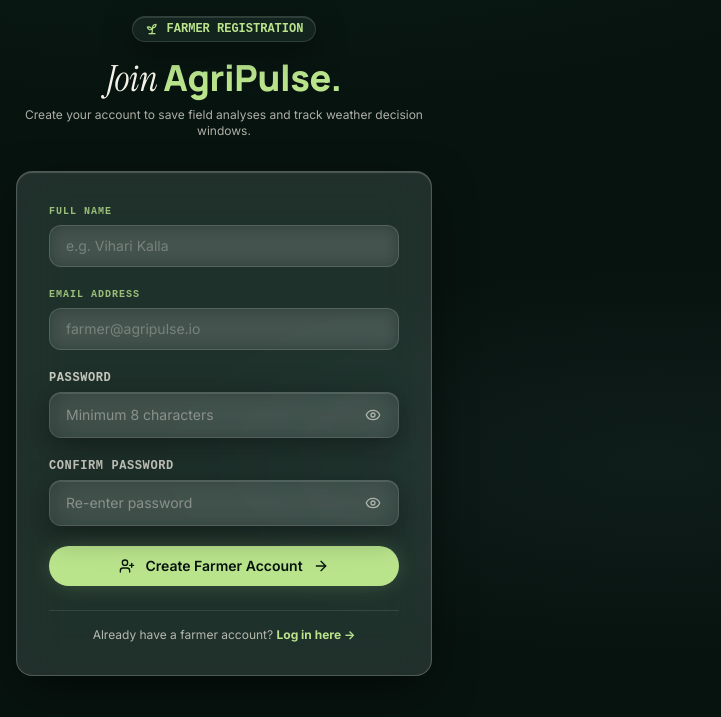
it: Stage 11J Frontend Auth & Password Component Tests › 3. SignupPage detects password mismatch
The image size is (721, 717).
Type "Vihari Kalla" into the field labelled "Full Name" at [224, 246], box [49,225,399,267]
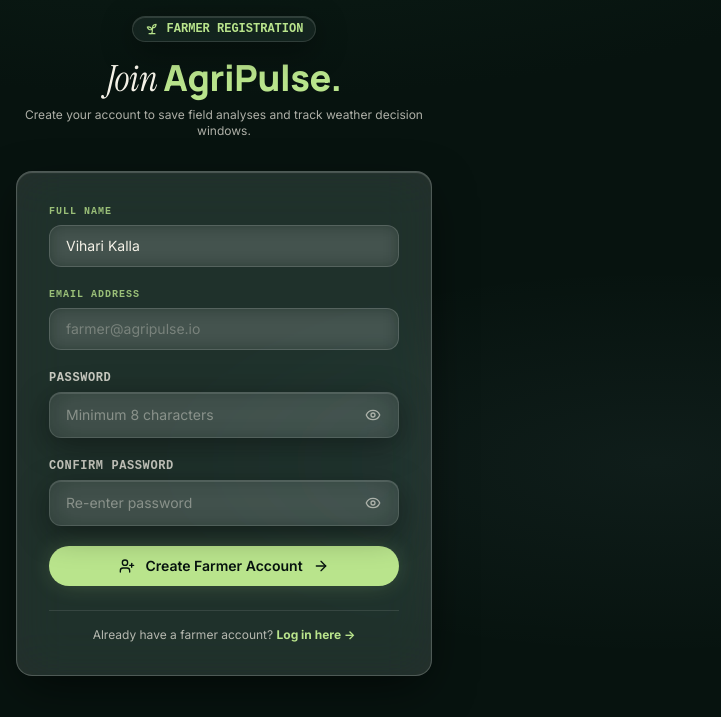
Type "vihari@agripulse.io" into the field labelled "Email Address" at [224, 329], box [49,308,399,350]
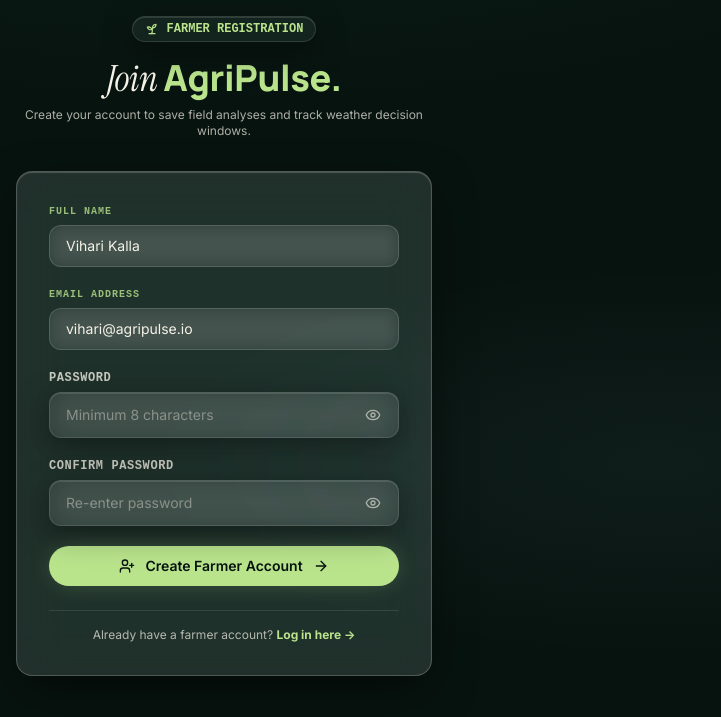
Type "Password123!" into the password field labelled "Password" at [224, 415], box [49,392,399,438]
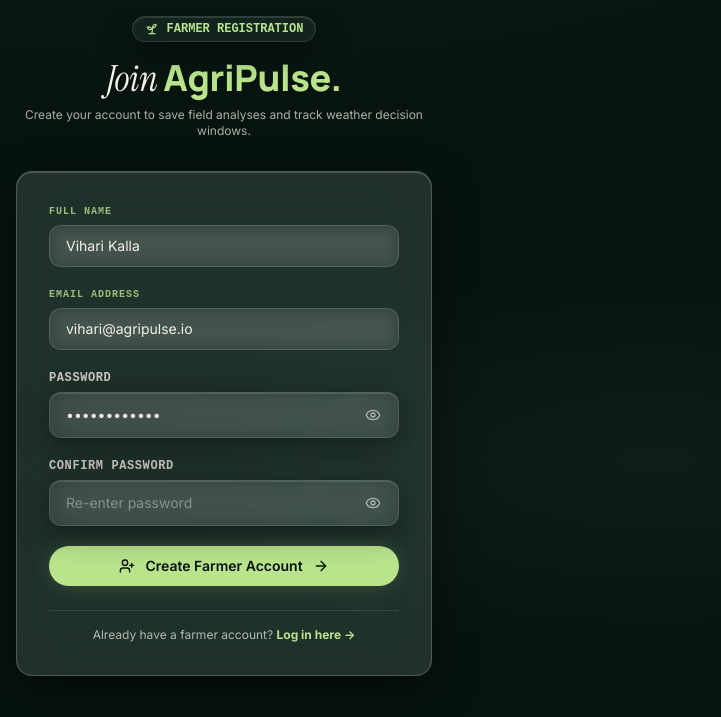
Type "WrongPassword123!" into the password field labelled "Confirm Password" at [224, 503], box [49,480,399,526]
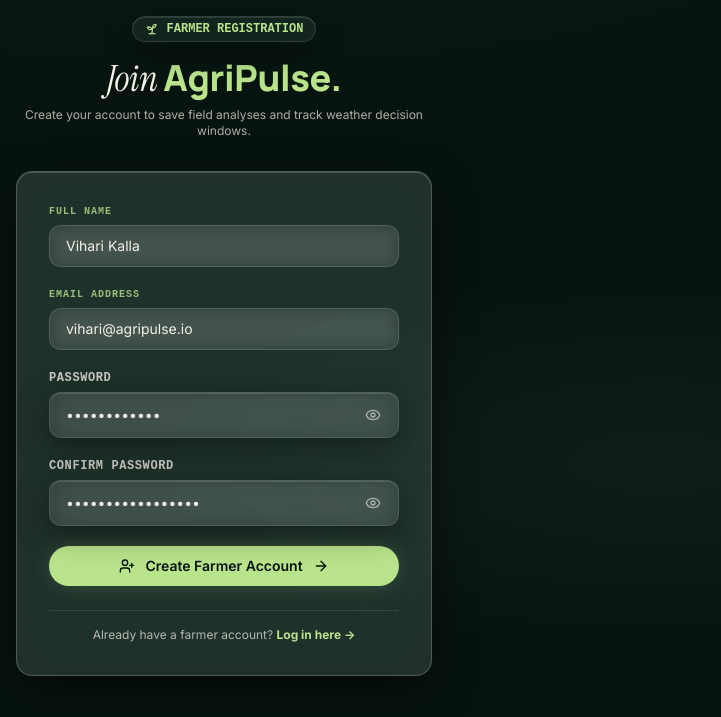
Click the button "Create Farmer Account" at [224, 566], box [49,546,399,586]
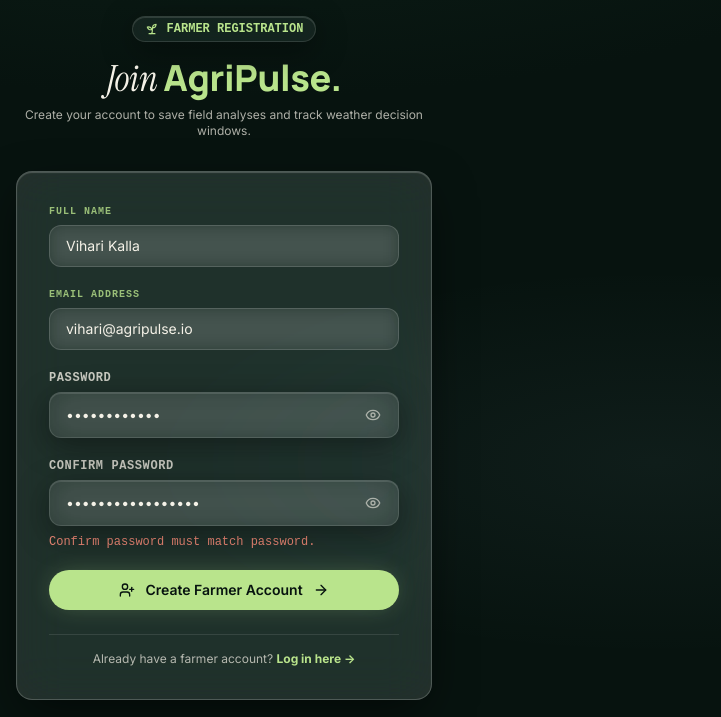
Now the text "Confirm password must match password." is shown, box [49,535,316,549]
